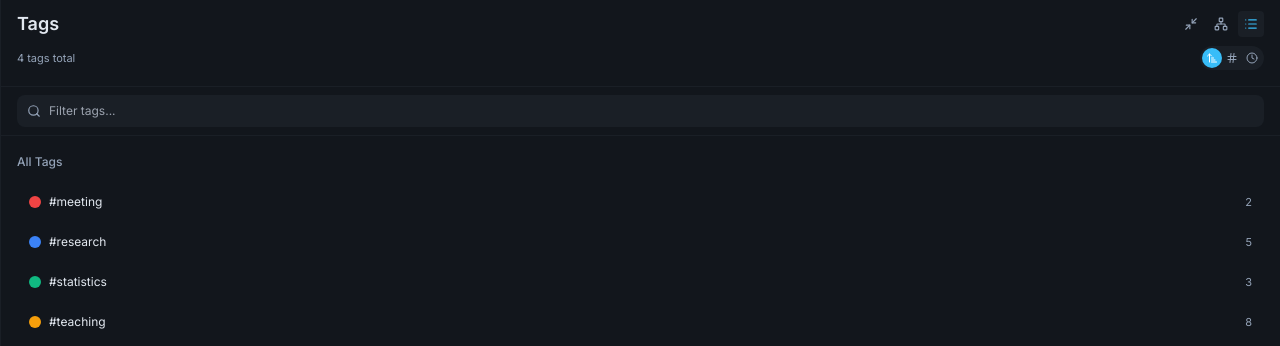
Test: TagsPanel Component › Tag Search/Filter › filters tags based on search query
Expected: the text "#research" is shown, [49, 232, 106, 252]
Type "research" into the field with placeholder "Filter tags...".
click(640, 111); type("research")  # box [17, 95, 1264, 127]
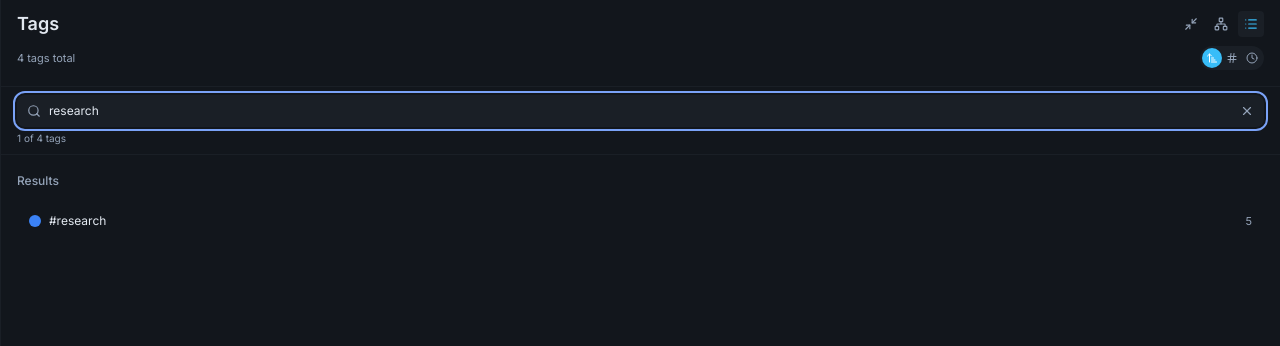
Expected: the text "#research" is shown, [49, 211, 106, 231]
Now the button "#meeting" is gone
